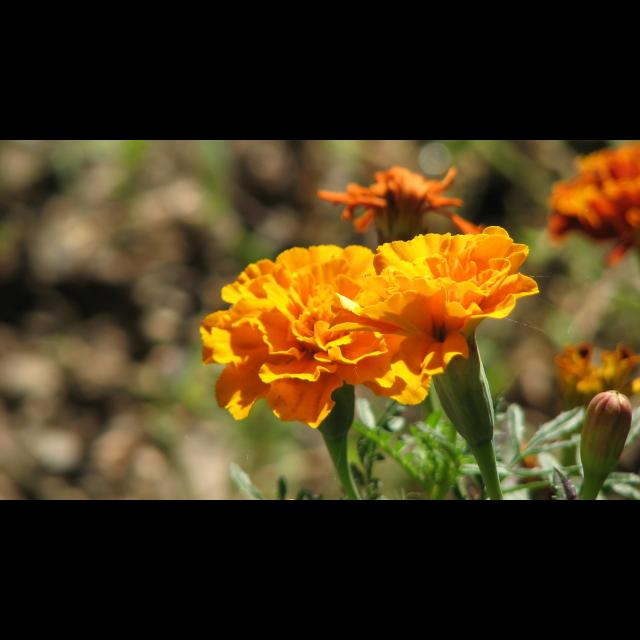Flower: (199, 225, 541, 431), (541, 140, 639, 268), (317, 166, 483, 234), (551, 339, 639, 393)
